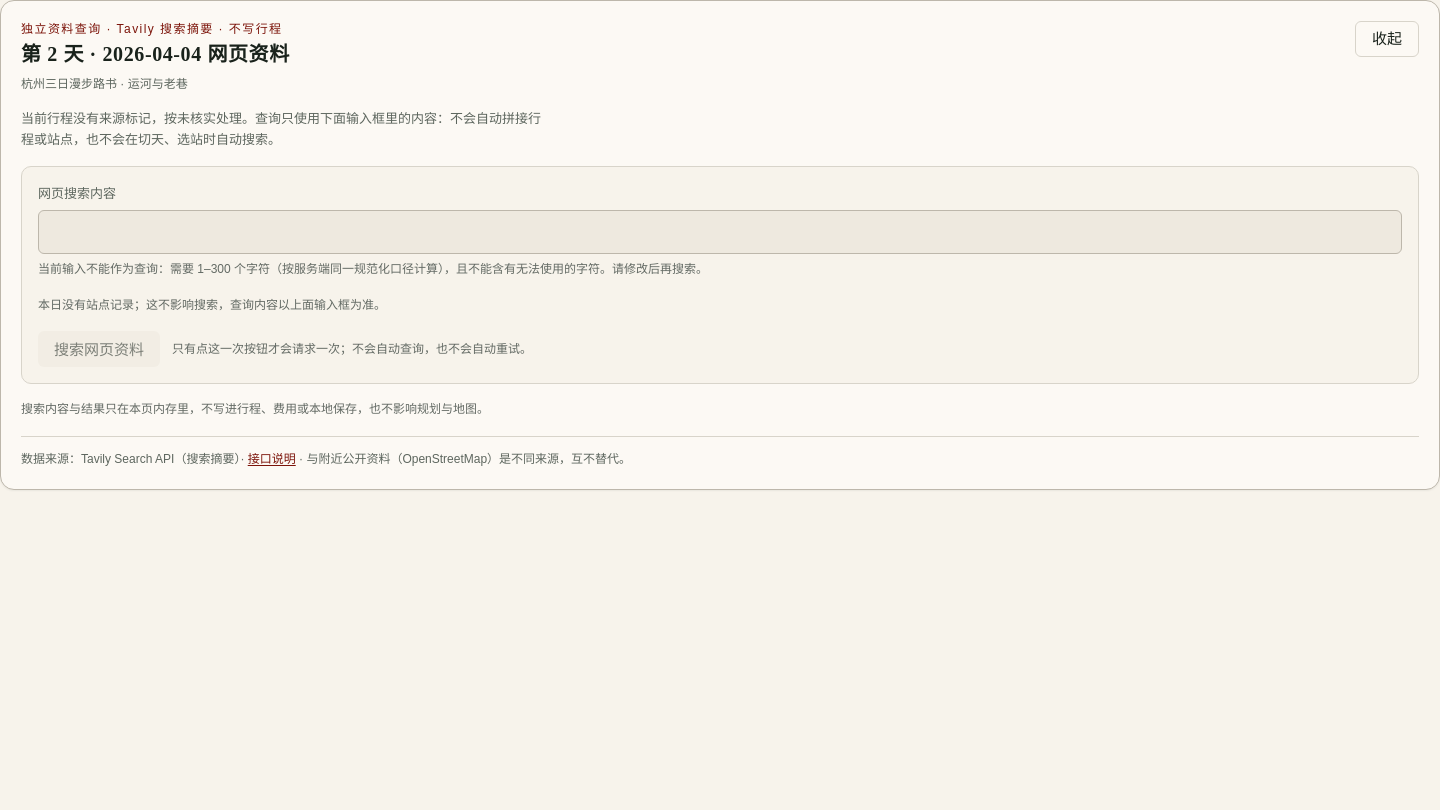
Test case: 初始状态与显式请求 › 本日没有站点：下拉整体隐藏，但输入 query 后仍可搜索
The width and height of the screenshot is (1440, 810).
Type "西湖 旅游" into the field labelled "网页搜索内容".
click(720, 232); type("西湖 旅游")  # box [38,210,1402,254]
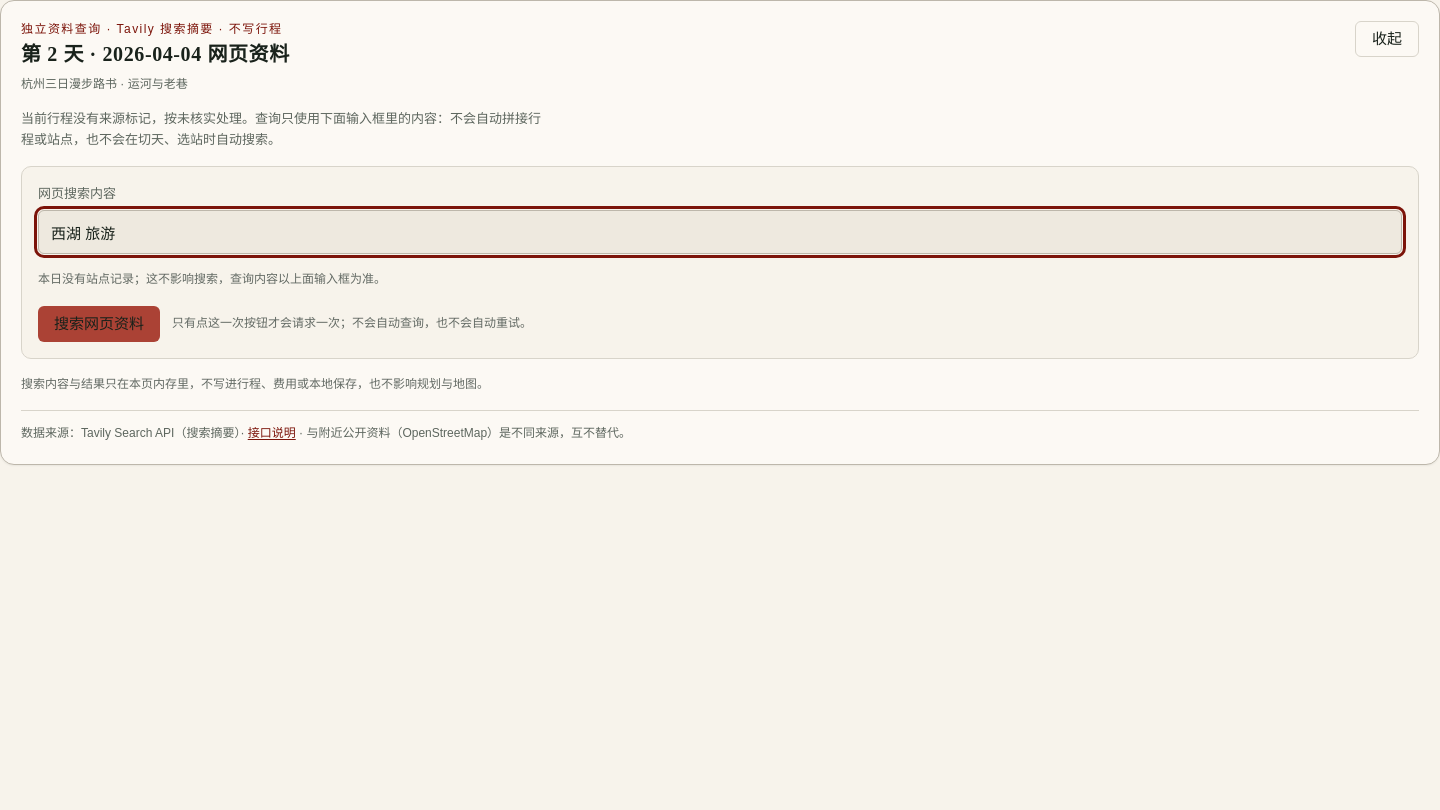
Click the button "搜索网页资料".
click(99, 324)  # box [38,306,160,342]
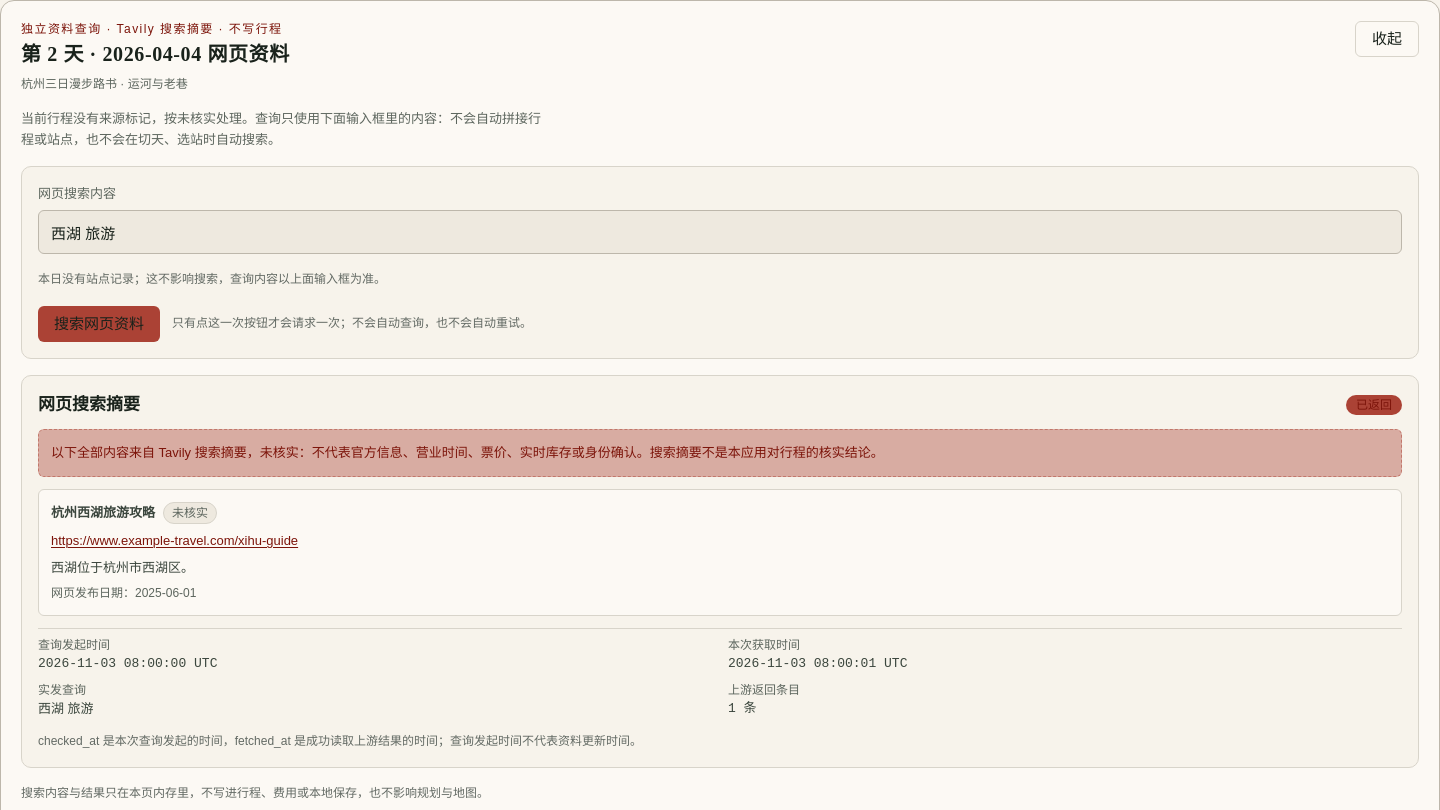
Expected: the element with test id "web-sources-result" is shown, [21,375,1419,768]
